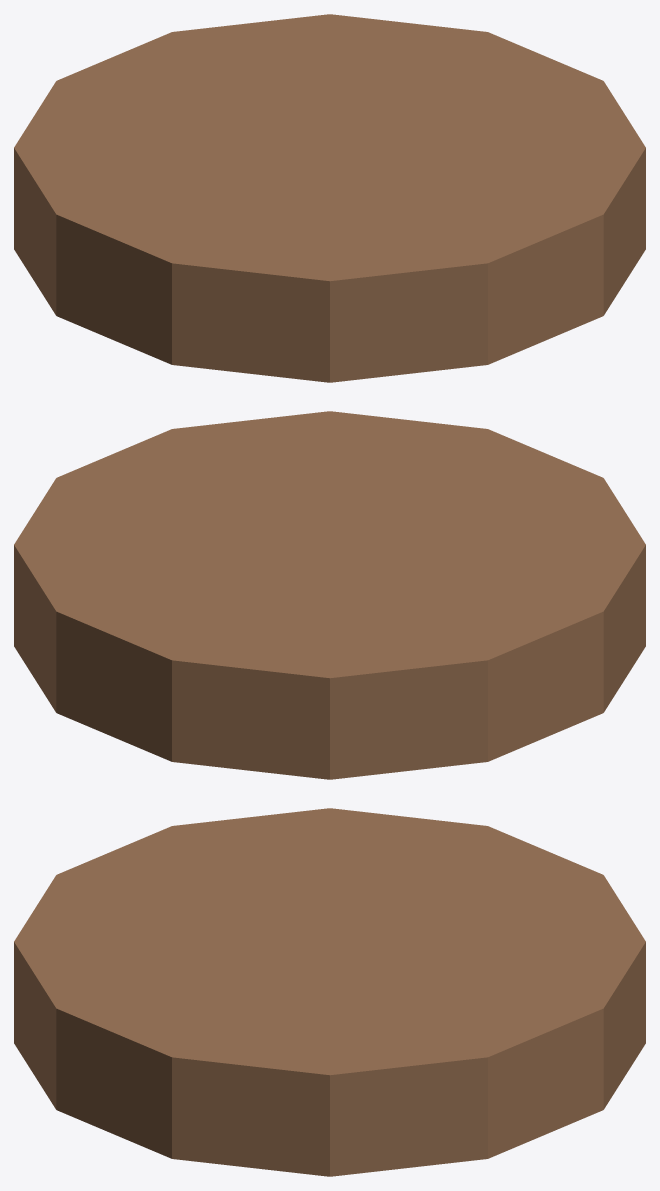
File: Cage_01_Up.fbx
The picture shows the model from 3 angles, top to bottom: view 1: azimuth 30°, elevation 25°; view 2: azimuth 150°, elevation 25°; view 3: azimuth 270°, elevation 25°; orthographic projection.
Visible parts, largest first — view 1: Cage_01_Up; view 2: Cage_01_Up; view 3: Cage_01_Up.
Boxes of the visible parts, x1,y1,x2,y2 form: Cage_01_Up: (14,14,645,382); Cage_01_Up: (14,411,645,779); Cage_01_Up: (14,808,645,1176).
Size of the model in its own units: 10.85 by 1.92 by 10.85.
